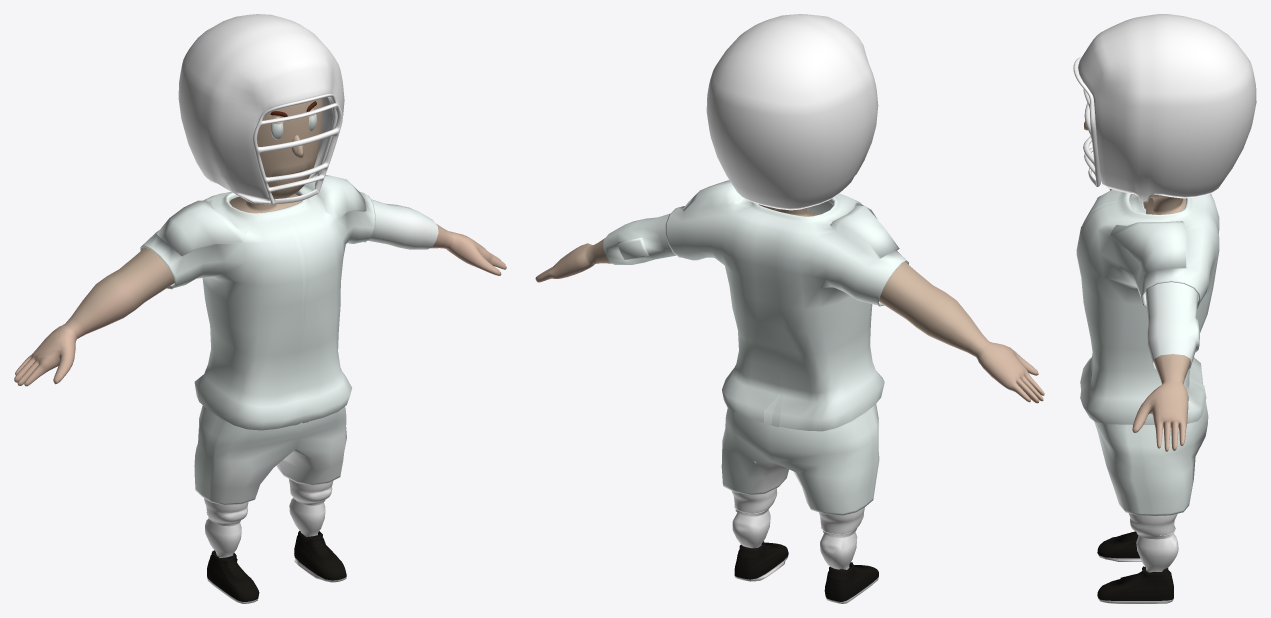
The model's file is FutbolistaAmericano.fbx.
The picture shows the model from 3 angles, left to right: view 1: azimuth 30°, elevation 25°; view 2: azimuth 150°, elevation 25°; view 3: azimuth 270°, elevation 25°; orthographic projection. The views are drawn at different scales.
Visible parts, largest first — view 1: Cube.003; view 2: Cube.003; view 3: Cube.003.
Part boxes in pixels (<box>): Cube.003: <box>14,14,506,603</box>; Cube.003: <box>535,14,1044,603</box>; Cube.003: <box>1073,14,1256,603</box>.
Size of the model in its own units: 128 by 137 by 40.91.
12 materials, 1 textured.
